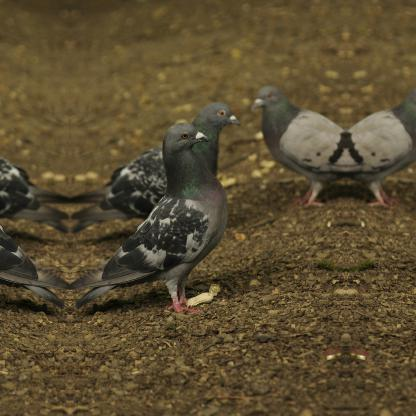Bird: (69, 104, 243, 235), (250, 84, 344, 210), (0, 104, 70, 236), (346, 83, 415, 211)
